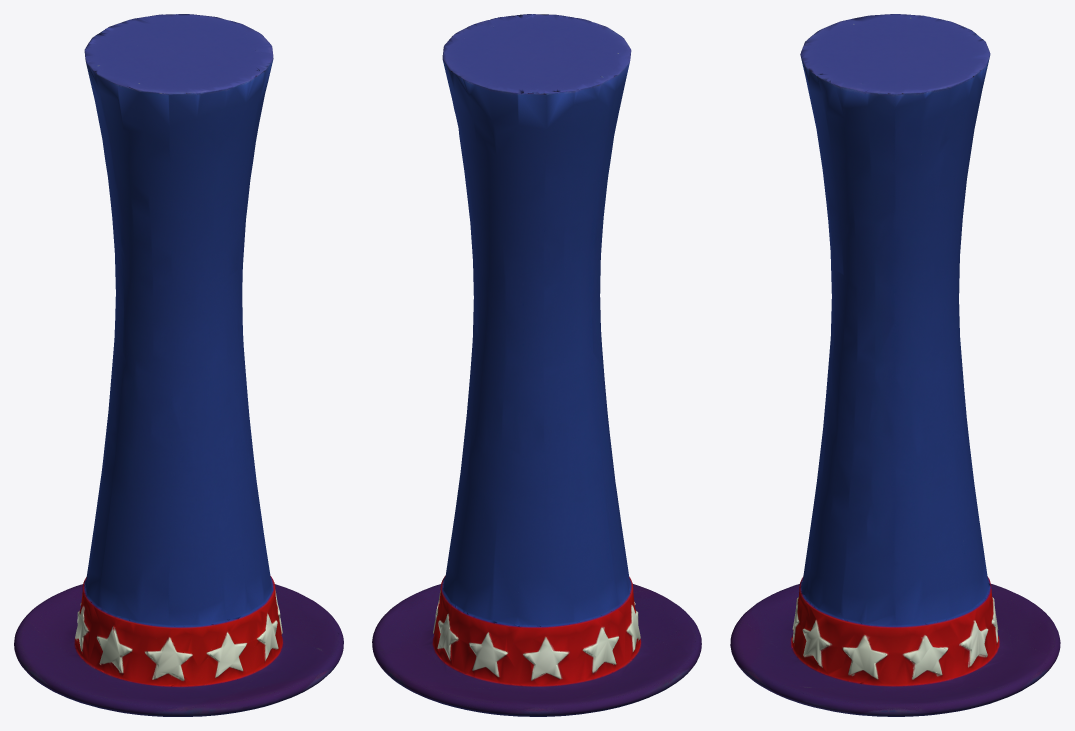
File: ee_uncle_sam.glb
3 renders of one model, left to right at view 1: azimuth 30°, elevation 25°; view 2: azimuth 150°, elevation 25°; view 3: azimuth 270°, elevation 25°, orthographic.
Bounding box in the file's own units: 0.9469 × 1.91 × 0.9468.
1 material, 1 textured.
